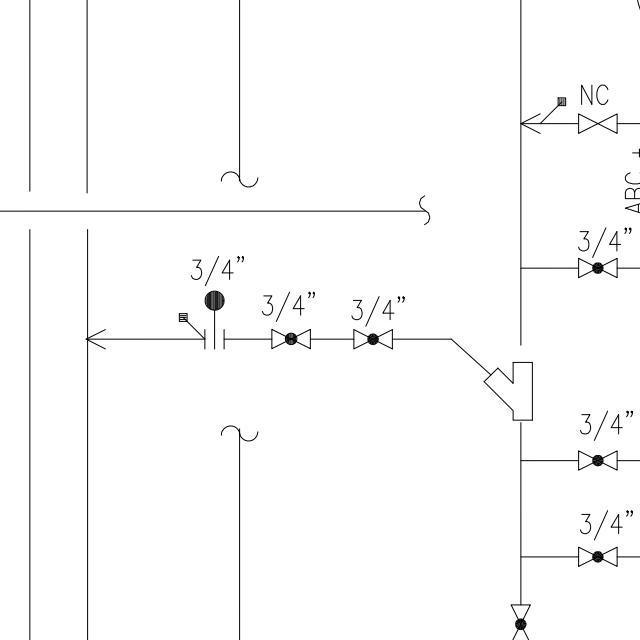BV2: (572, 253, 623, 280), (571, 447, 625, 472), (509, 596, 539, 640), (573, 543, 621, 568), (265, 329, 319, 351), (349, 326, 398, 350)
GV: (574, 109, 623, 137)
